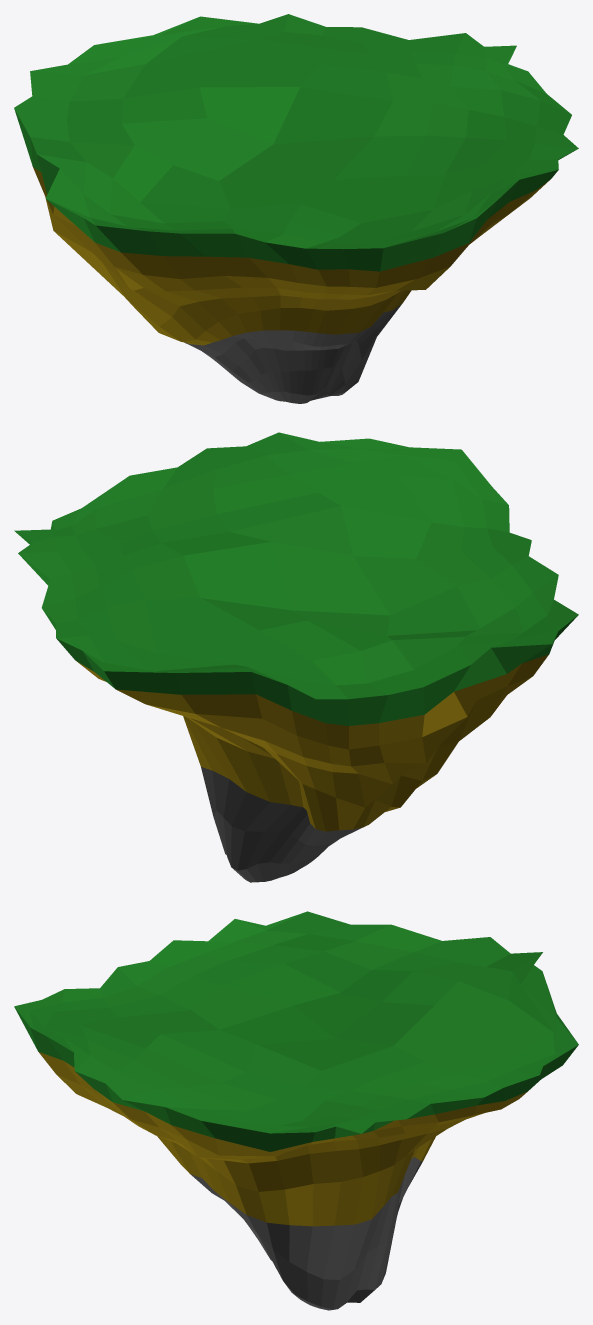
File: Platform_ground_4.fbx
3 views of the same model, one above another, from view 1: azimuth 30°, elevation 25°; view 2: azimuth 150°, elevation 25°; view 3: azimuth 270°, elevation 25° (orthographic). The views are drawn at different scales.
Parts seen in each view (by area): view 1: Sphere; view 2: Sphere; view 3: Sphere.
Part boxes in pixels (box(x1,y1,x2,y2)): Sphere: box(14, 14, 578, 403); Sphere: box(14, 432, 578, 882); Sphere: box(14, 911, 578, 1310).
Size of the model in its own units: 335 by 193 by 344.
